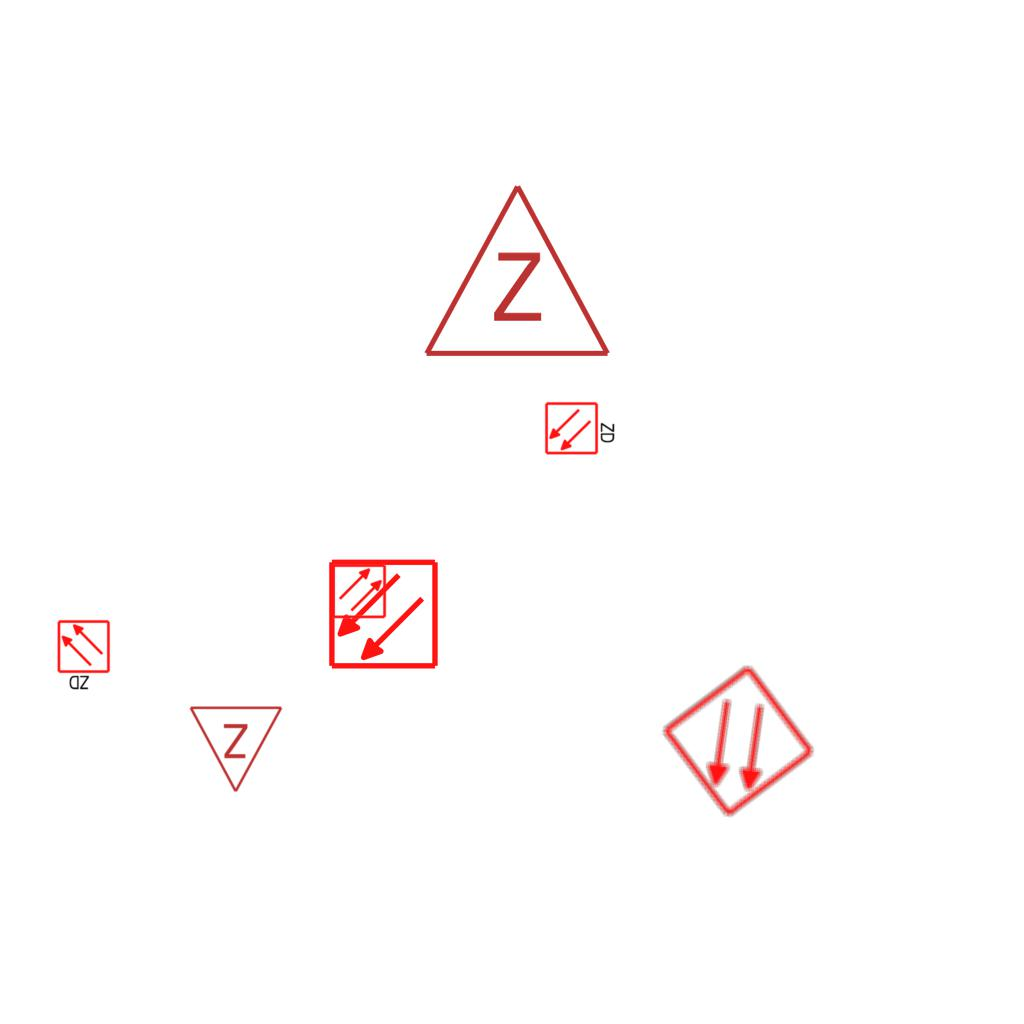RMO_Rauchmelder_optischer: (659, 662, 818, 821), (327, 558, 440, 671), (331, 563, 387, 619)
ZD_Melder_in_Zwischendecke_mit_Revisionsoeffnung_mind_40_x_40_cm: (56, 619, 113, 693), (544, 399, 618, 456)
Zimmersignalleuchte: (417, 171, 613, 371), (188, 699, 286, 799)
